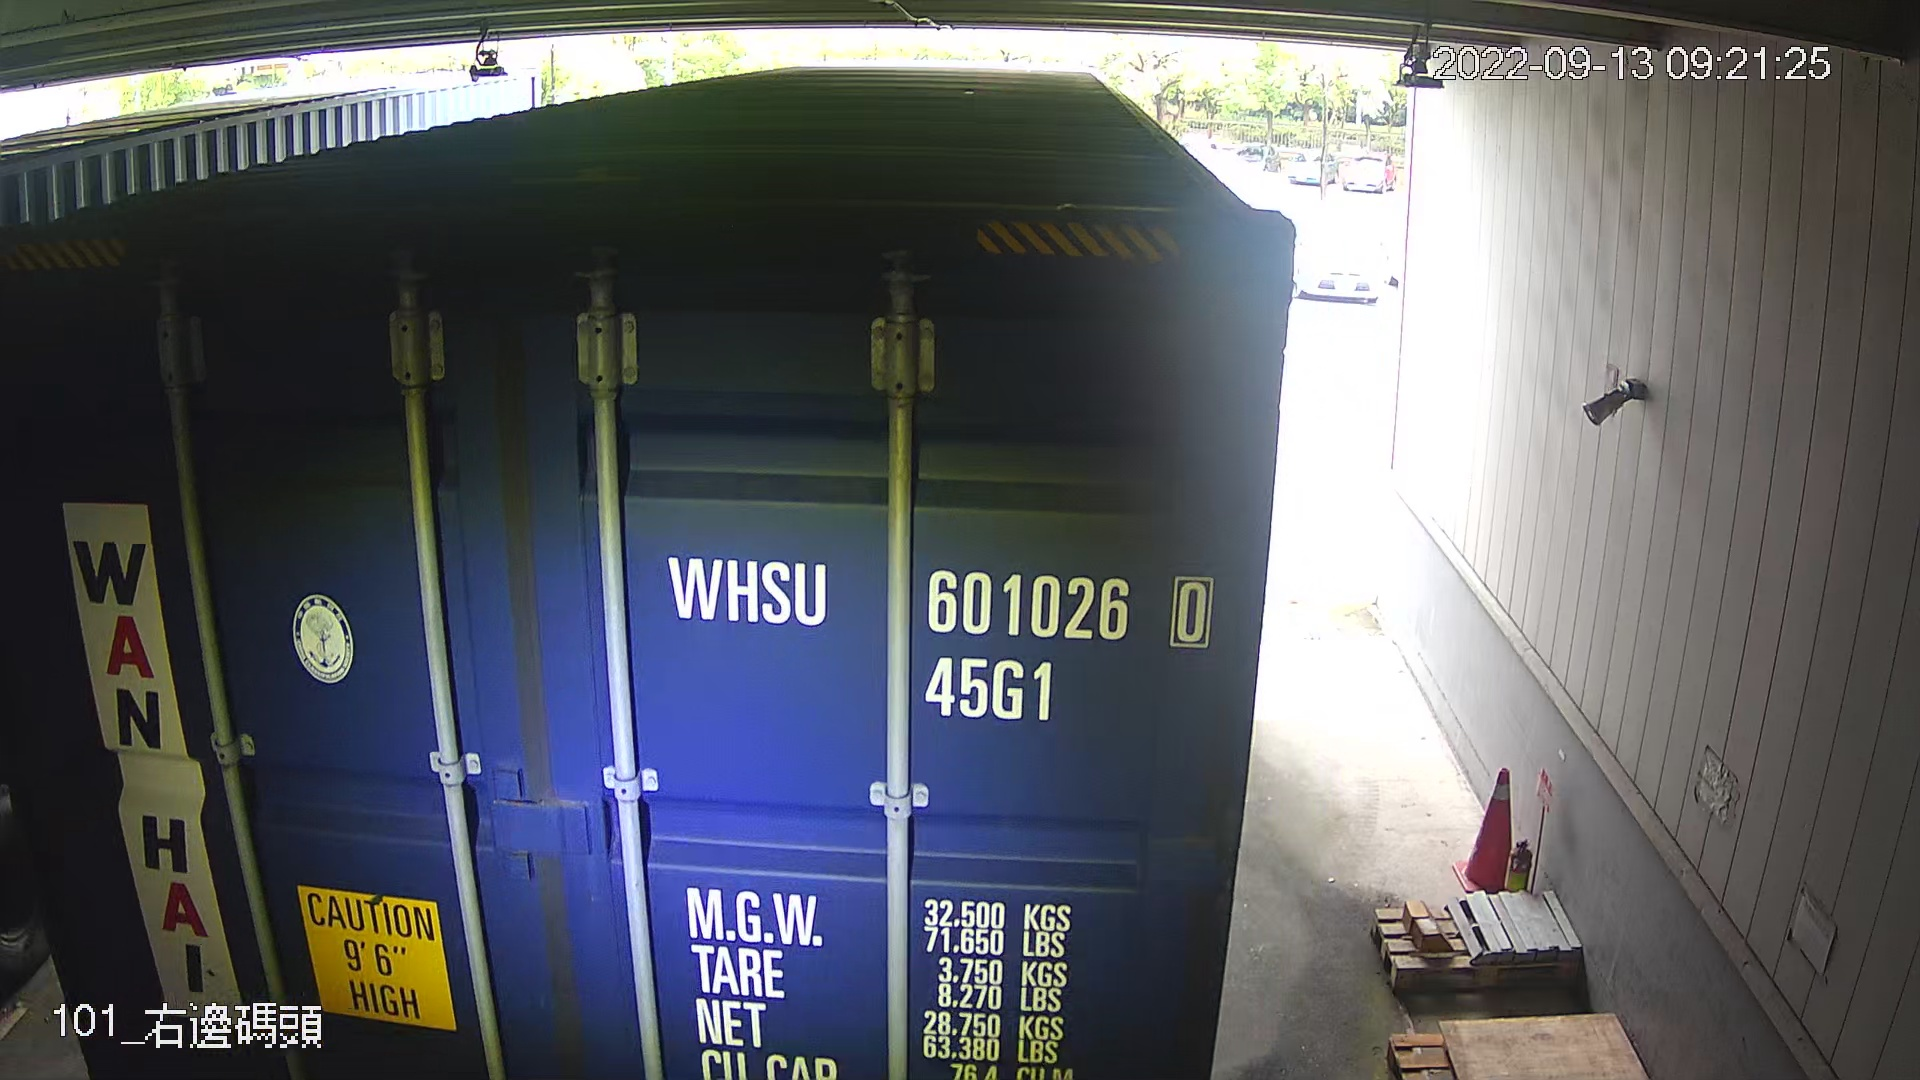container: (644, 520, 1232, 735)
